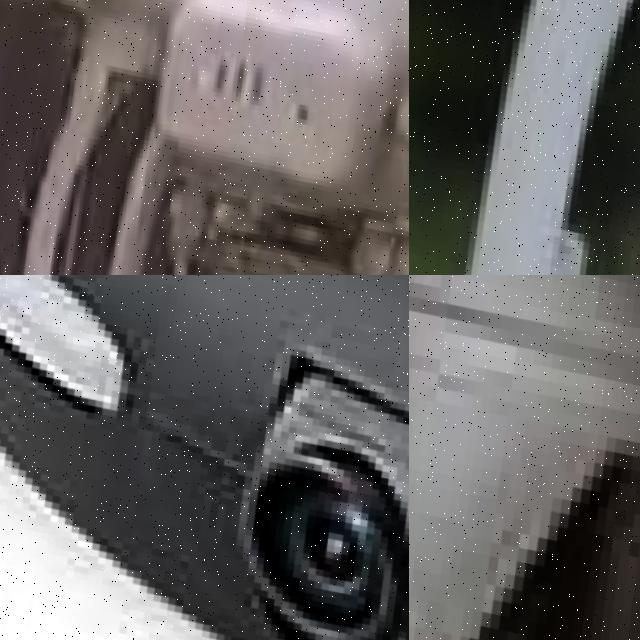0: (0, 0, 409, 275), (409, 275, 640, 640), (409, 0, 640, 275)
drone: (0, 275, 409, 640)
